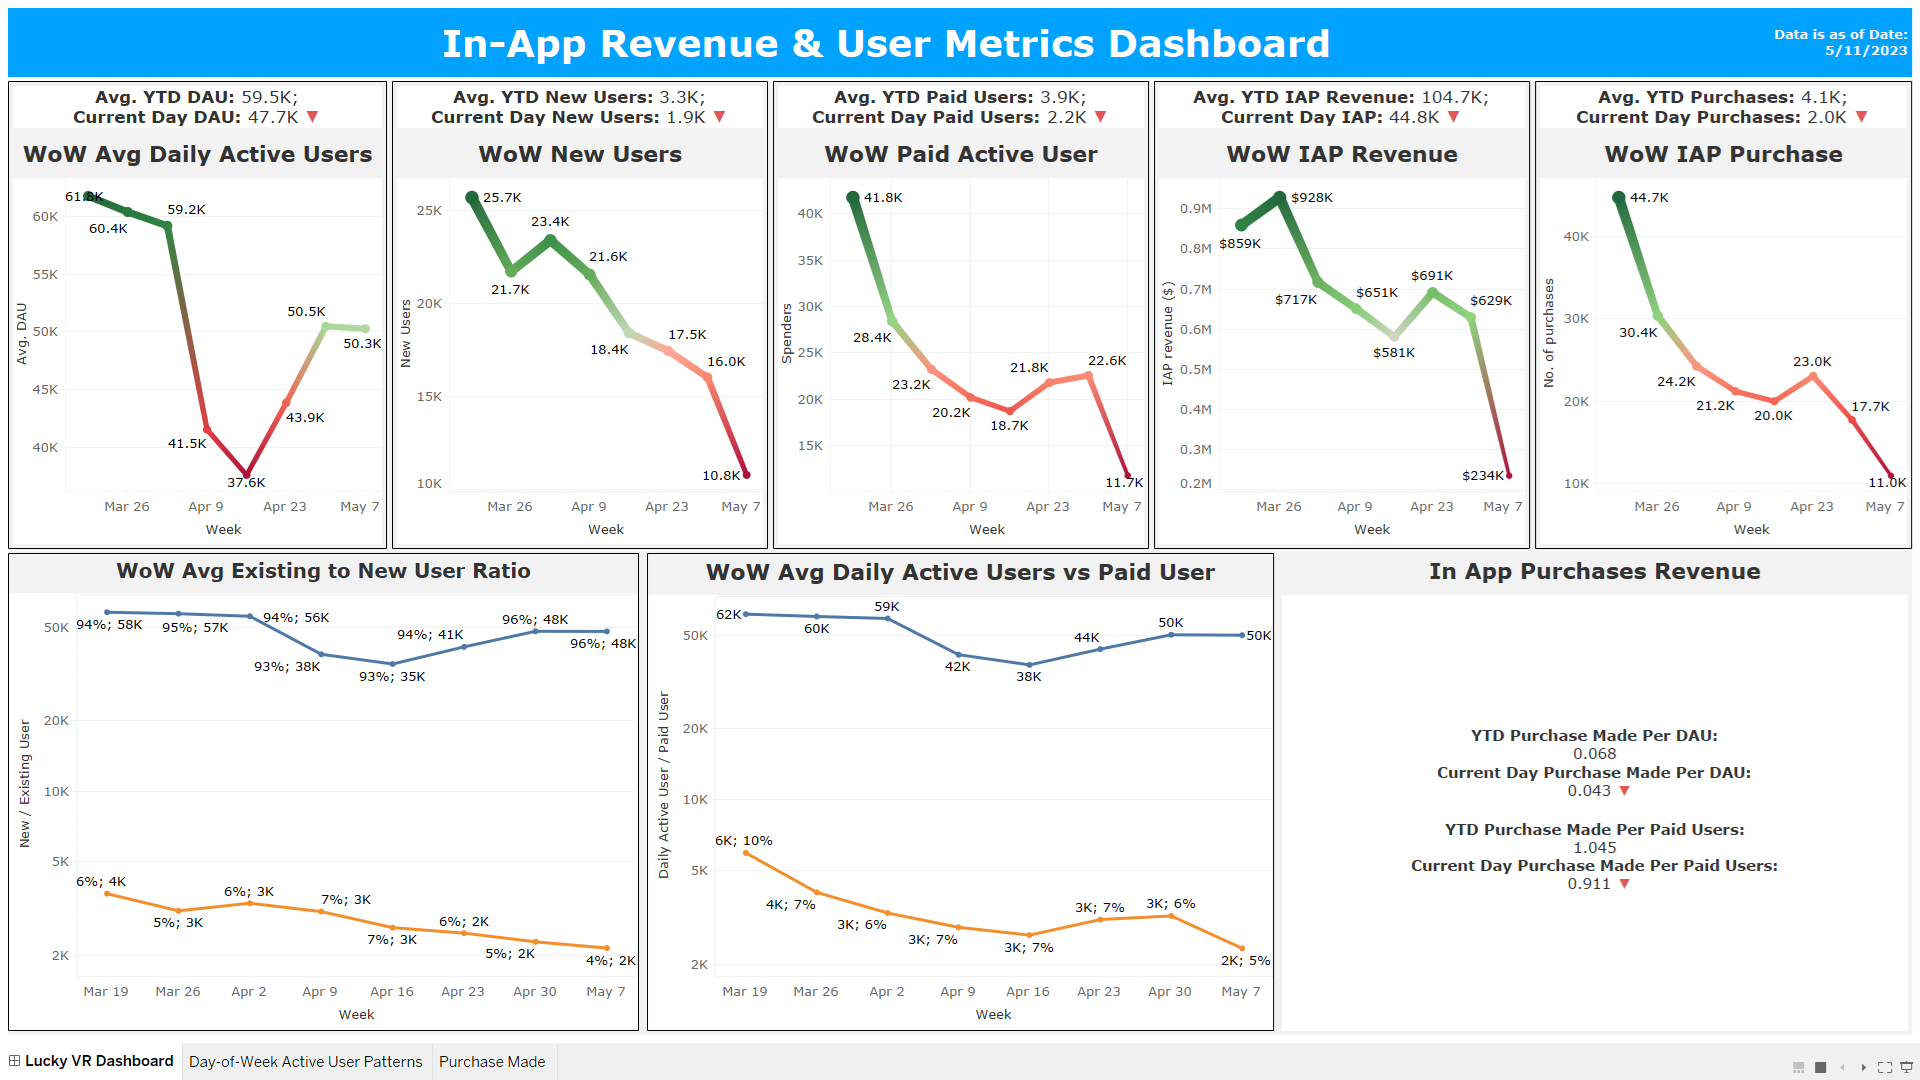

The page's visual inventory and layout, read from the dashboard file:
{"tool":"tableau","page":{"name":"Lucky VR Dashboard","canvas":[1000,1000],"units":"permille","ordinal":0},"visuals":[{"type":"text","box":[4.2,9.4,915,70]},{"type":"worksheet","title":"Date Sheet","mark":"Automatic","box":[919.3,9.4,76.5,70]},{"type":"worksheet","title":"DAU YTD Comparison","mark":"Automatic","box":[4.8,81.1,196.5,58.8]},{"type":"worksheet","title":"New Users YTD Comparison","mark":"Automatic","box":[205,81.1,194.9,58.8]},{"type":"worksheet","title":"Spenders YTD Comparison","mark":"Automatic","box":[403.6,81.1,194.4,58.8]},{"type":"worksheet","title":"IAP YTD Comparison","mark":"Automatic","box":[601.7,81.1,194.4,58.8]},{"type":"worksheet","title":"Purchases YTD Comparison","mark":"Automatic","box":[799.8,81.1,195.4,58.8]},{"type":"worksheet","title":"WoW Active Users","mark":"Automatic","rows":["DAU"],"cols":["Date"],"box":[4.8,139.8,196.5,488.8]},{"type":"worksheet","title":"WoW New Users","mark":"Automatic","rows":["New Users"],"cols":["Date"],"box":[205,139.8,194.9,488.8]},{"type":"worksheet","title":"WoW Spenders","mark":"Automatic","rows":["Spenders"],"cols":["Date"],"box":[403.6,139.8,194.4,488.8]},{"type":"worksheet","title":"WoW IAP","mark":"Automatic","rows":["IAP revenue ($)"],"cols":["Date"],"box":[601.7,139.8,194.4,488.8]},{"type":"worksheet","title":"WoW Purchases","mark":"Automatic","rows":["Nb purchases"],"cols":["Date"],"box":[799.8,139.8,195.4,488.8]},{"type":"worksheet","title":"Old to New User Ratio","mark":"Automatic","rows":["Calculation_2362982447844548648","New Users"],"cols":["Date"],"box":[4.2,629.9,330.5,360.8]},{"type":"worksheet","title":"DAU vs % of Spenders ","mark":"Automatic","rows":["DAU","Spenders"],"cols":["Date"],"box":[334.8,629.9,330.5,360.8]},{"type":"worksheet","title":"Purchase Made","mark":"Automatic","box":[665.2,629.9,330.5,360.8]}]}

Visuals, with their boxes on the dashboard's canvas, which has no fixed pixel size, in thousandths of its width and height (x1, y1, x2, y2). These are canvas units, not pixel positions in the 1920x1080 screenshot, which may show the page scaled, cropped or inside an application window:
text: {"x1": 4, "y1": 9, "x2": 919, "y2": 79}
"Date Sheet" worksheet: {"x1": 919, "y1": 9, "x2": 996, "y2": 79}
"DAU YTD Comparison" worksheet: {"x1": 5, "y1": 81, "x2": 201, "y2": 140}
"New Users YTD Comparison" worksheet: {"x1": 205, "y1": 81, "x2": 400, "y2": 140}
"Spenders YTD Comparison" worksheet: {"x1": 404, "y1": 81, "x2": 598, "y2": 140}
"IAP YTD Comparison" worksheet: {"x1": 602, "y1": 81, "x2": 796, "y2": 140}
"Purchases YTD Comparison" worksheet: {"x1": 800, "y1": 81, "x2": 995, "y2": 140}
"WoW Active Users" worksheet: {"x1": 5, "y1": 140, "x2": 201, "y2": 629}
"WoW New Users" worksheet: {"x1": 205, "y1": 140, "x2": 400, "y2": 629}
"WoW Spenders" worksheet: {"x1": 404, "y1": 140, "x2": 598, "y2": 629}
"WoW IAP" worksheet: {"x1": 602, "y1": 140, "x2": 796, "y2": 629}
"WoW Purchases" worksheet: {"x1": 800, "y1": 140, "x2": 995, "y2": 629}
"Old to New User Ratio" worksheet: {"x1": 4, "y1": 630, "x2": 335, "y2": 991}
"DAU vs % of Spenders " worksheet: {"x1": 335, "y1": 630, "x2": 665, "y2": 991}
"Purchase Made" worksheet: {"x1": 665, "y1": 630, "x2": 996, "y2": 991}
